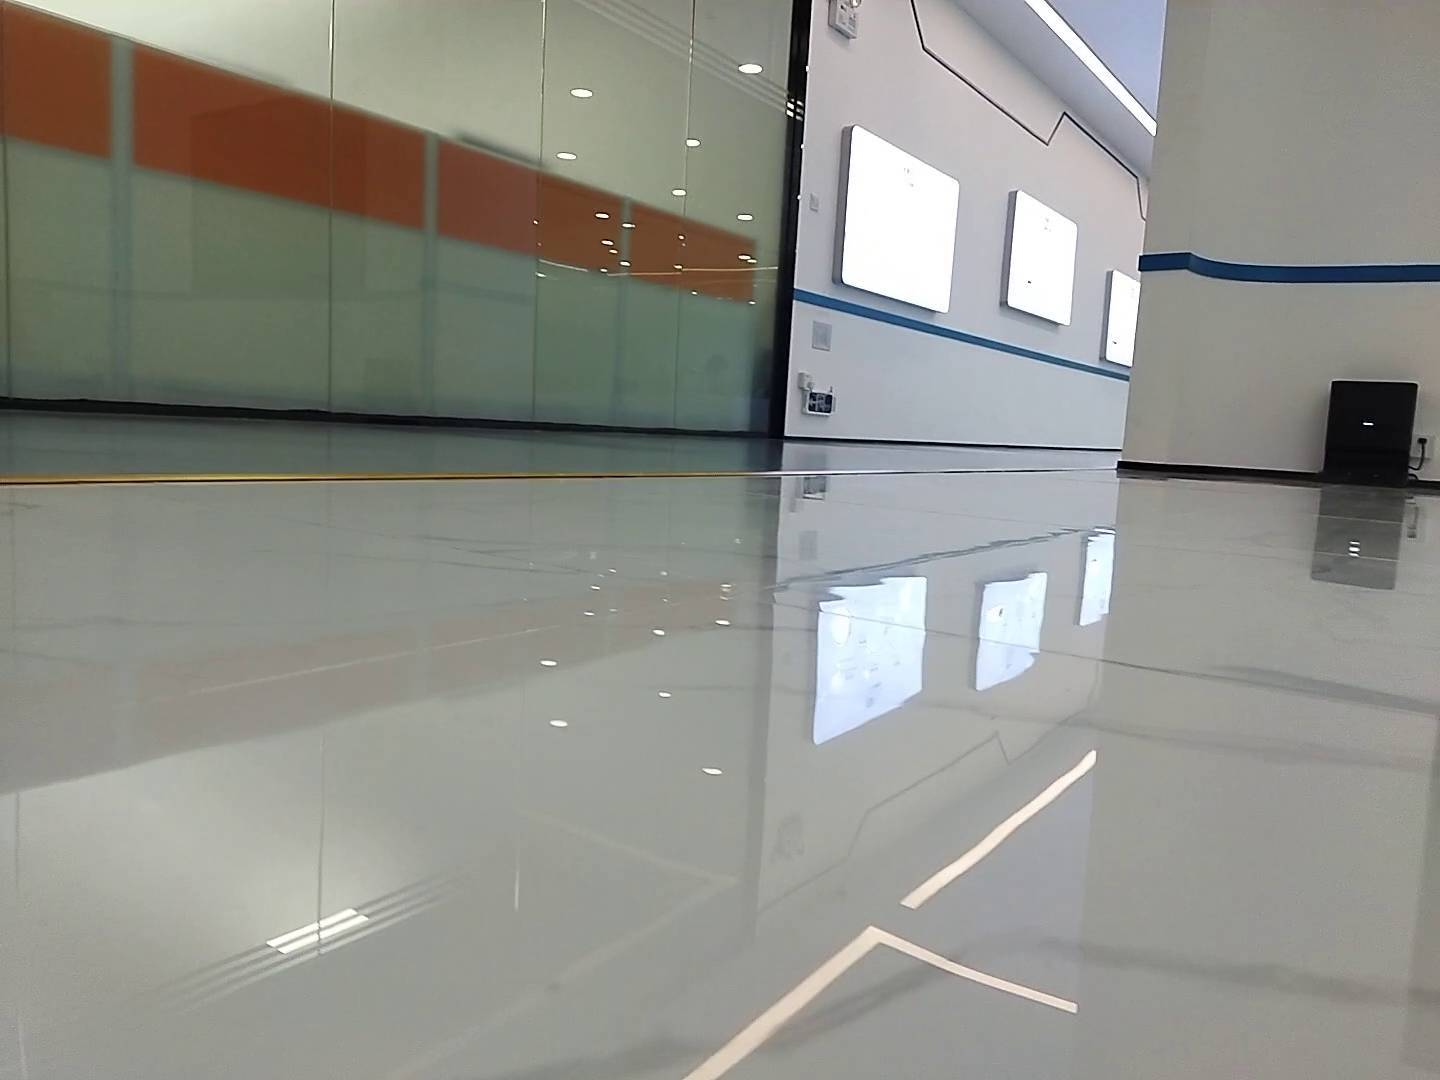dust collecting barrel: (1303, 380, 1421, 492)
